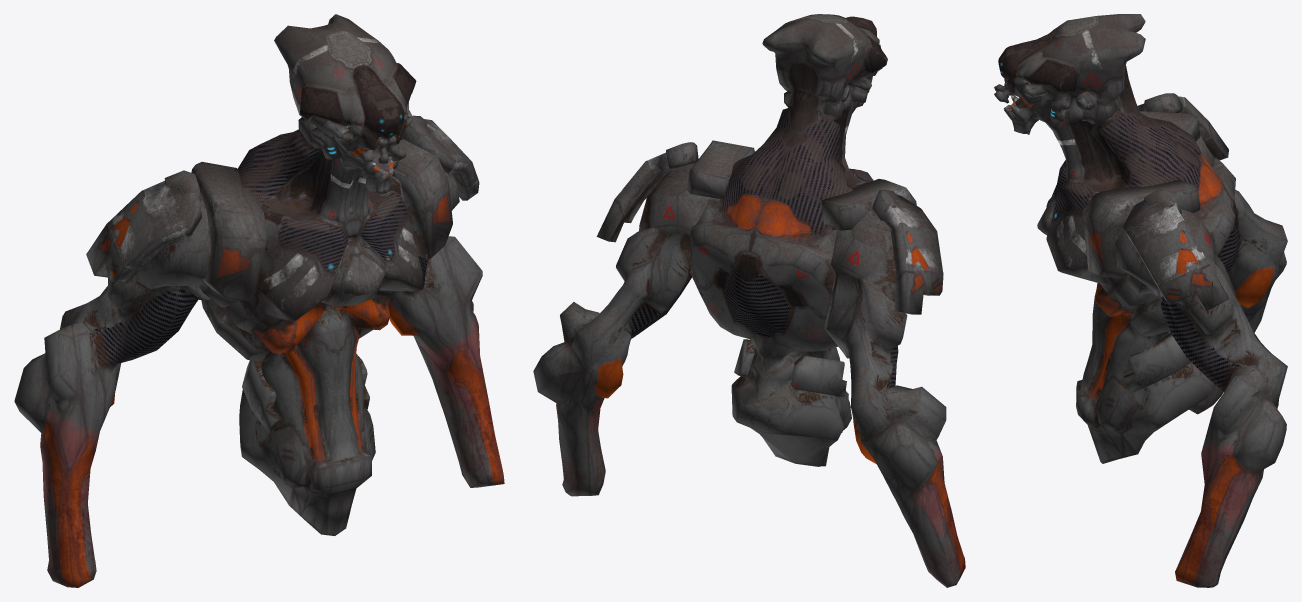
Rendered from zbrushArmor2.glb.
3 views of the same model, side by side, from view 1: azimuth 30°, elevation 25°; view 2: azimuth 150°, elevation 25°; view 3: azimuth 270°, elevation 25° (orthographic). The views are drawn at different scales.
Parts seen in each view (by area): view 1: g (×5); view 2: g (×5); view 3: g (×5).
Part boxes in pixels (left/top/right/bottom): g (×5): left=14, top=14, right=504, bottom=587; g (×5): left=533, top=14, right=965, bottom=587; g (×5): left=994, top=14, right=1287, bottom=587.
Size of the model in its own units: 1.73 by 2 by 1.11.
1 material, 1 textured.
